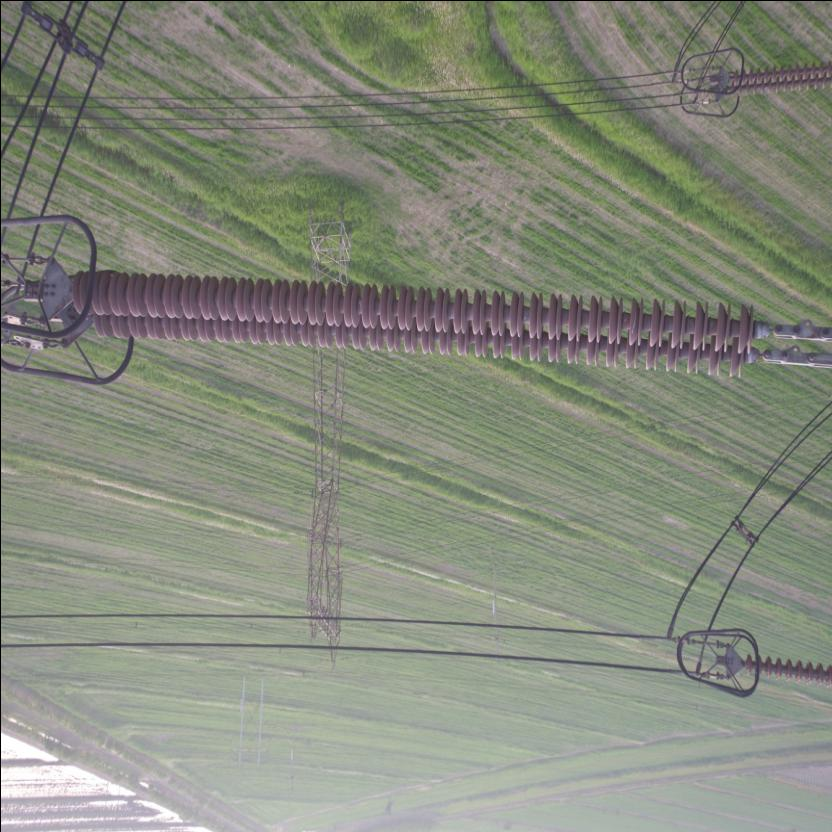insulator: (51, 264, 795, 386), (721, 60, 831, 104), (733, 652, 831, 688)
